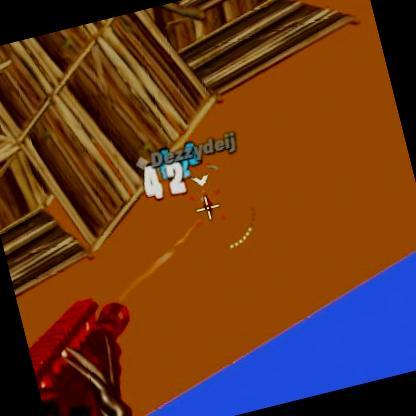person: (198, 190, 214, 218)
